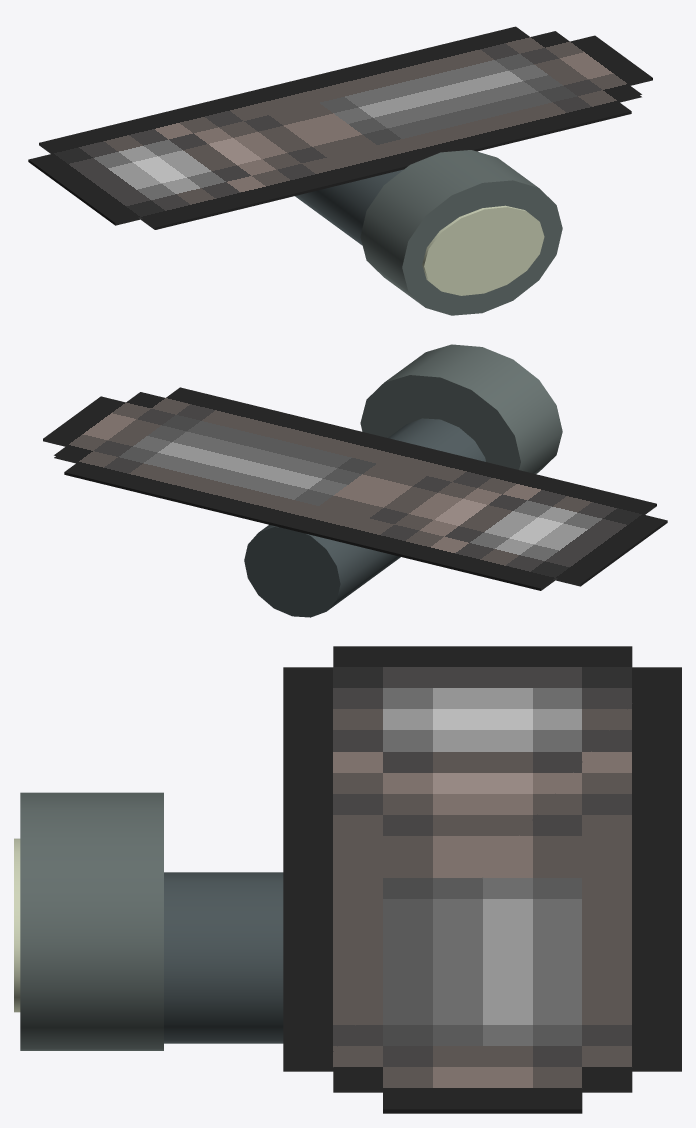
The model's file is CMU3DReduxRMCFlashlight.glb.
3 renders of one model, top to bottom at view 1: azimuth 30°, elevation 25°; view 2: azimuth 150°, elevation 25°; view 3: azimuth 270°, elevation 25°, orthographic. The views are drawn at different scales.
Visible parts, largest first — view 1: source upper face, torch head, torch lens, torch barrel; view 2: source upper face, torch head, torch barrel; view 3: source upper face, torch head, torch barrel, torch lens.
Part boxes in pixels (x1,y1,x2,y2): source upper face: (28, 26, 652, 229); torch head: (360, 150, 562, 315); torch lens: (422, 205, 544, 295); torch barrel: (295, 169, 403, 245); source upper face: (43, 387, 667, 590); torch head: (360, 344, 562, 473); torch barrel: (244, 418, 485, 617); source upper face: (283, 646, 681, 1113); torch head: (20, 792, 163, 1050); torch barrel: (164, 872, 283, 1043); torch lens: (14, 838, 20, 1012).
Size of the model in its own units: 0.6875 by 0.155 by 0.419.
4 materials, 1 textured.
